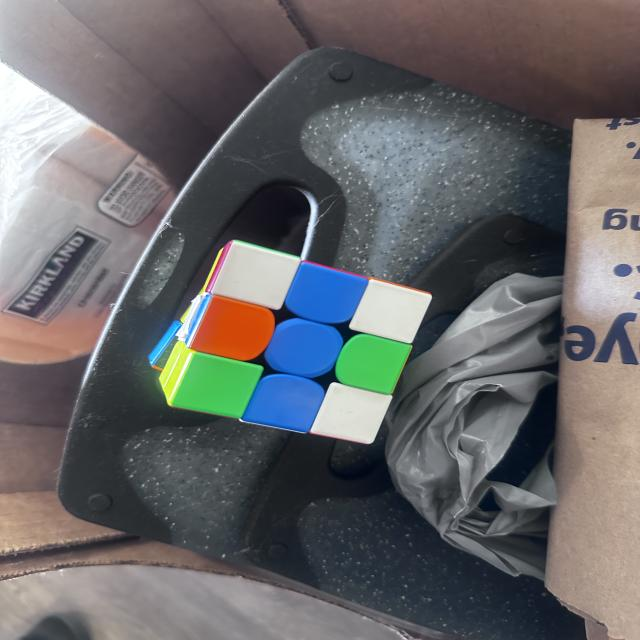sticker: (209, 240, 301, 310), (169, 352, 263, 419), (186, 295, 276, 362), (348, 277, 434, 344), (284, 262, 368, 326), (309, 382, 394, 445), (242, 374, 325, 435), (263, 319, 344, 379), (335, 334, 412, 395)
